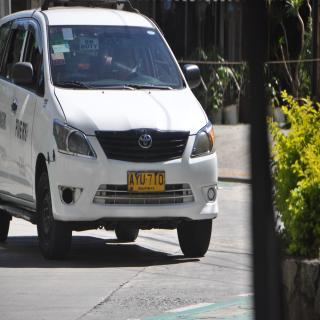license: (129, 172, 166, 193)
